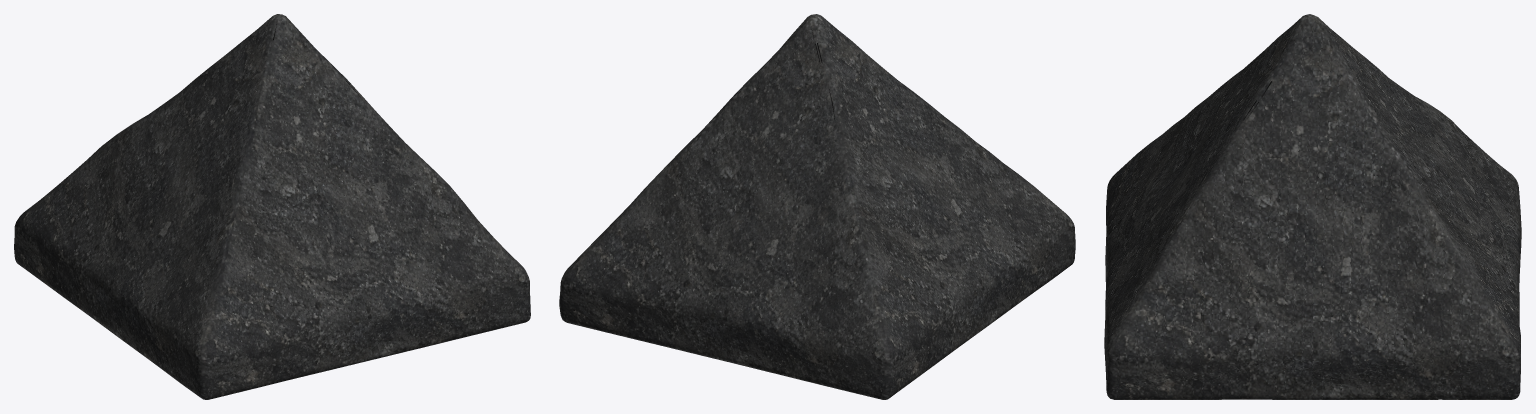
File: tak-capstone-black.glb
3 views of the same model, side by side, from view 1: azimuth 30°, elevation 25°; view 2: azimuth 150°, elevation 25°; view 3: azimuth 270°, elevation 25° (orthographic). The views are drawn at different scales.
Parts seen in each view (by area): view 1: tak-capstone-black; view 2: tak-capstone-black; view 3: tak-capstone-black.
Part boxes in pixels (bbox=[...]): tak-capstone-black: bbox=[14, 14, 530, 399]; tak-capstone-black: bbox=[559, 14, 1075, 399]; tak-capstone-black: bbox=[1104, 14, 1521, 399].
Size of the model in its own units: 0.0284 by 0.0226 by 0.0283.
Materials: 1 (1 with a texture image).
